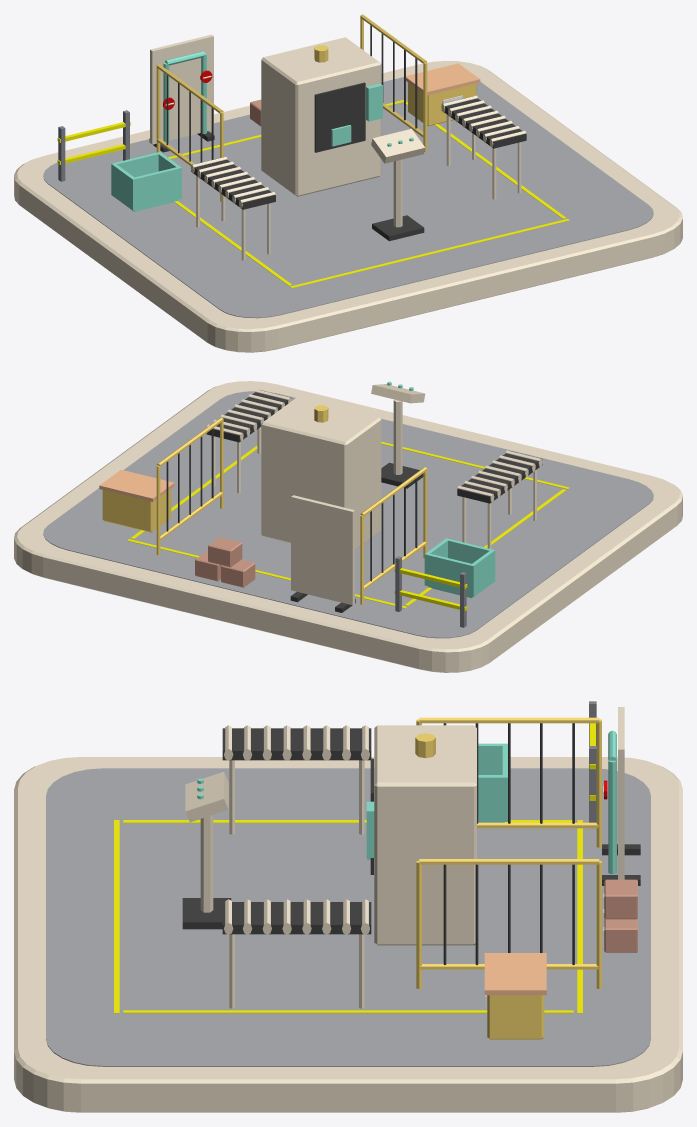
The picture shows the model from 3 angles, top to bottom: view 1: azimuth 30°, elevation 25°; view 2: azimuth 150°, elevation 25°; view 3: azimuth 270°, elevation 25°; orthographic projection. The views are drawn at different scales.
Parts seen in each view (by area): view 1: COM-02 Floor Surface, COM-01 Rounded Base Direct, Machine, Panel, Cabinet window, Belt.001, Bin end, Belt, Lid, Box, Control console, Bin side (+6 smaller); view 2: COM-02 Floor Surface, COM-01 Rounded Base Direct, Machine, Panel, Box, Belt, Lid, Belt.001, Bin end.001, Bin side, Stacked case.002, Stacked case (+6 smaller); view 3: COM-02 Floor Surface, COM-01 Rounded Base Direct, Machine, Belt.001, Belt, Lid, Box, Control console, Work zone stripe.001, Bin side.001, Stacked case.002, Stand (+15 smaller).
Part boxes in pixels (left/top/right/bottom): COM-02 Floor Surface: left=43, top=77, right=653, bottom=318; COM-01 Rounded Base Direct: left=14, top=61, right=682, bottom=352; Machine: left=261, top=37, right=381, bottom=196; Panel: left=150, top=34, right=213, bottom=144; Cabinet window: left=314, top=82, right=365, bottom=152; Belt.001: left=441, top=96, right=526, bottom=148; Bin end: left=135, top=167, right=179, bottom=209; Belt: left=191, top=157, right=275, bottom=209; Lid: left=406, top=63, right=480, bottom=95; Box: left=408, top=82, right=476, bottom=126; Control console: left=371, top=128, right=425, bottom=163; Bin side: left=111, top=163, right=135, bottom=210; COM-02 Floor Surface: left=43, top=391, right=653, bottom=638; COM-01 Rounded Base Direct: left=14, top=381, right=682, bottom=672; Machine: left=261, top=397, right=381, bottom=549; Panel: left=291, top=495, right=354, bottom=605; Box: left=102, top=489, right=171, bottom=532; Belt: left=457, top=451, right=542, bottom=503; Lid: left=99, top=469, right=174, bottom=501; Belt.001: left=206, top=390, right=291, bottom=442; Bin end.001: left=427, top=553, right=472, bottom=596; Bin side: left=471, top=549, right=495, bottom=597; Stacked case.002: left=208, top=537, right=242, bottom=567; Stacked case: left=221, top=559, right=255, bottom=587; COM-02 Floor Surface: left=46, top=768, right=650, bottom=1066; COM-01 Rounded Base Direct: left=14, top=757, right=682, bottom=1112; Machine: left=374, top=725, right=476, bottom=945; Belt.001: left=222, top=902, right=371, bottom=934; Belt: left=222, top=728, right=371, bottom=760; Lid: left=484, top=953, right=546, bottom=995; Box: left=487, top=995, right=544, bottom=1039; Control console: left=185, top=771, right=228, bottom=822; Work zone stripe.001: left=123, top=1010, right=573, bottom=1013; Bin side.001: left=478, top=775, right=507, bottom=821; Stacked case.002: left=604, top=879, right=637, bottom=919; Stand: left=200, top=815, right=213, bottom=912.
Size of the model in its own units: 6 by 1.84 by 5.2.
1 material, 1 textured.
